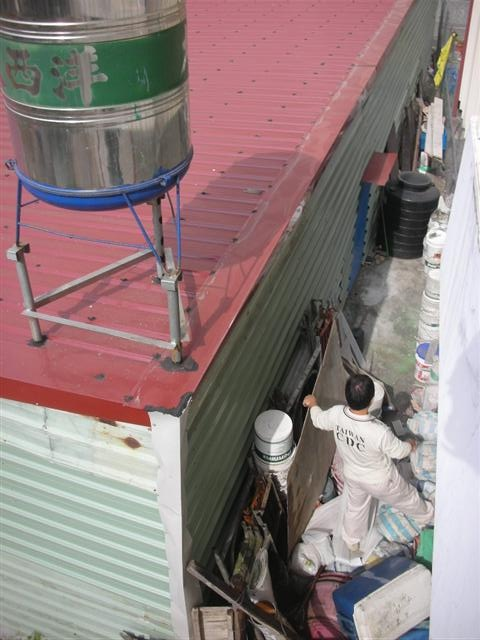box: (325, 547, 430, 639)
bucket: (379, 171, 441, 262), (249, 410, 296, 474)
water_tower: (1, 1, 193, 267)
